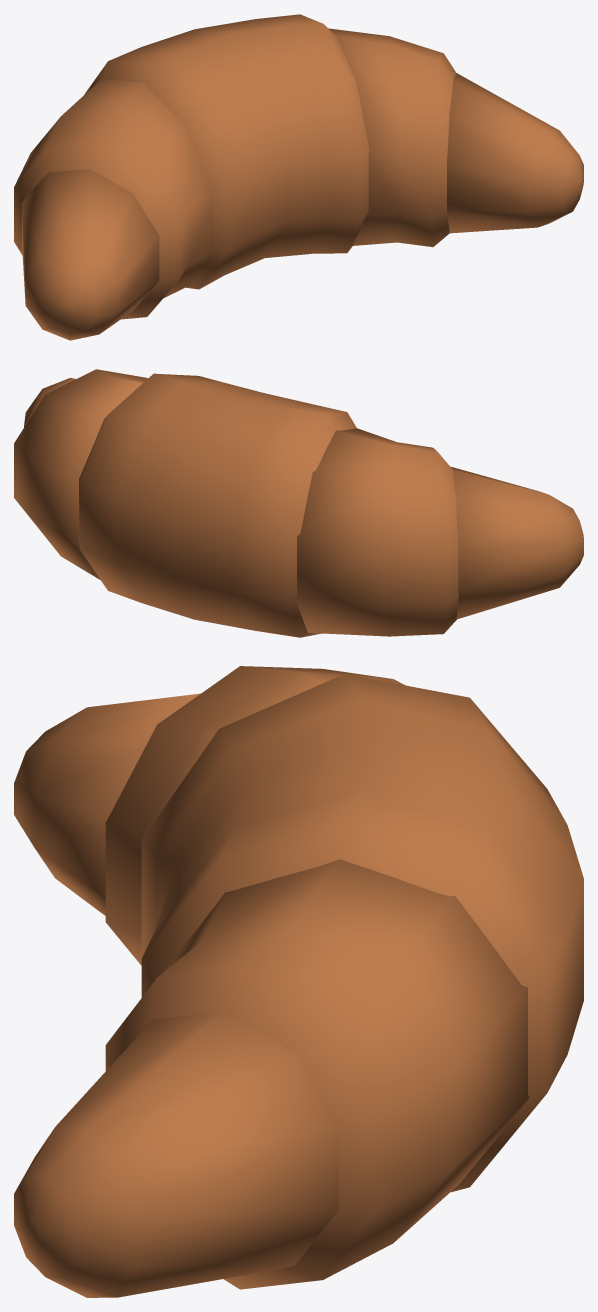
The model's file is Croissant_01.fbx.
The picture shows the model from 3 angles, top to bottom: view 1: azimuth 30°, elevation 25°; view 2: azimuth 150°, elevation 25°; view 3: azimuth 270°, elevation 25°; orthographic projection. The views are drawn at different scales.
Visible parts, largest first — view 1: Croissant_01; view 2: Croissant_01; view 3: Croissant_01.
Boxes of the visible parts, left/top/right/bottom form: Croissant_01: left=14, top=14, right=583, bottom=340; Croissant_01: left=14, top=369, right=583, bottom=637; Croissant_01: left=14, top=666, right=583, bottom=1297.
Size of the model in its own units: 0.1977 by 0.0772 by 0.0992.
